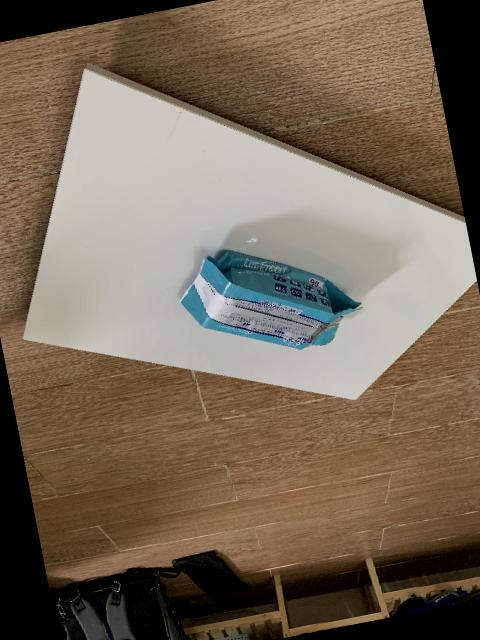Let-green_alcohol_wipes: (178, 248, 361, 348)
